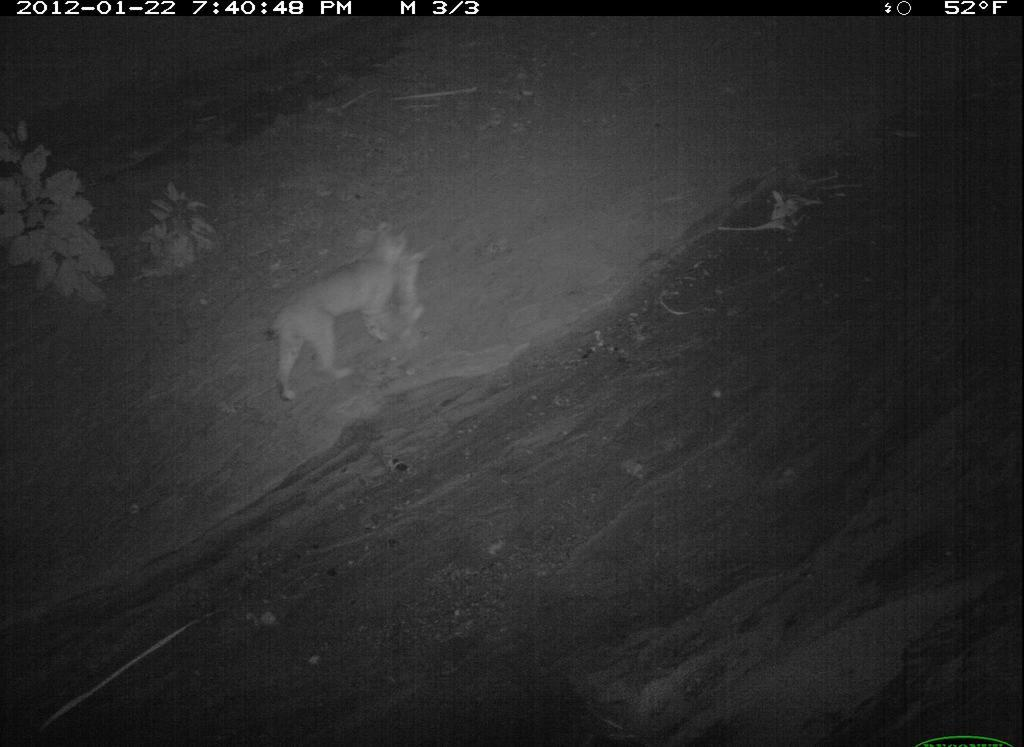bobcat: (519, 431, 835, 747)
rabbit: (793, 492, 864, 697)
